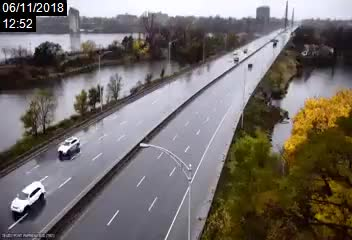personal_car: (8, 179, 49, 213), (55, 136, 83, 160)
